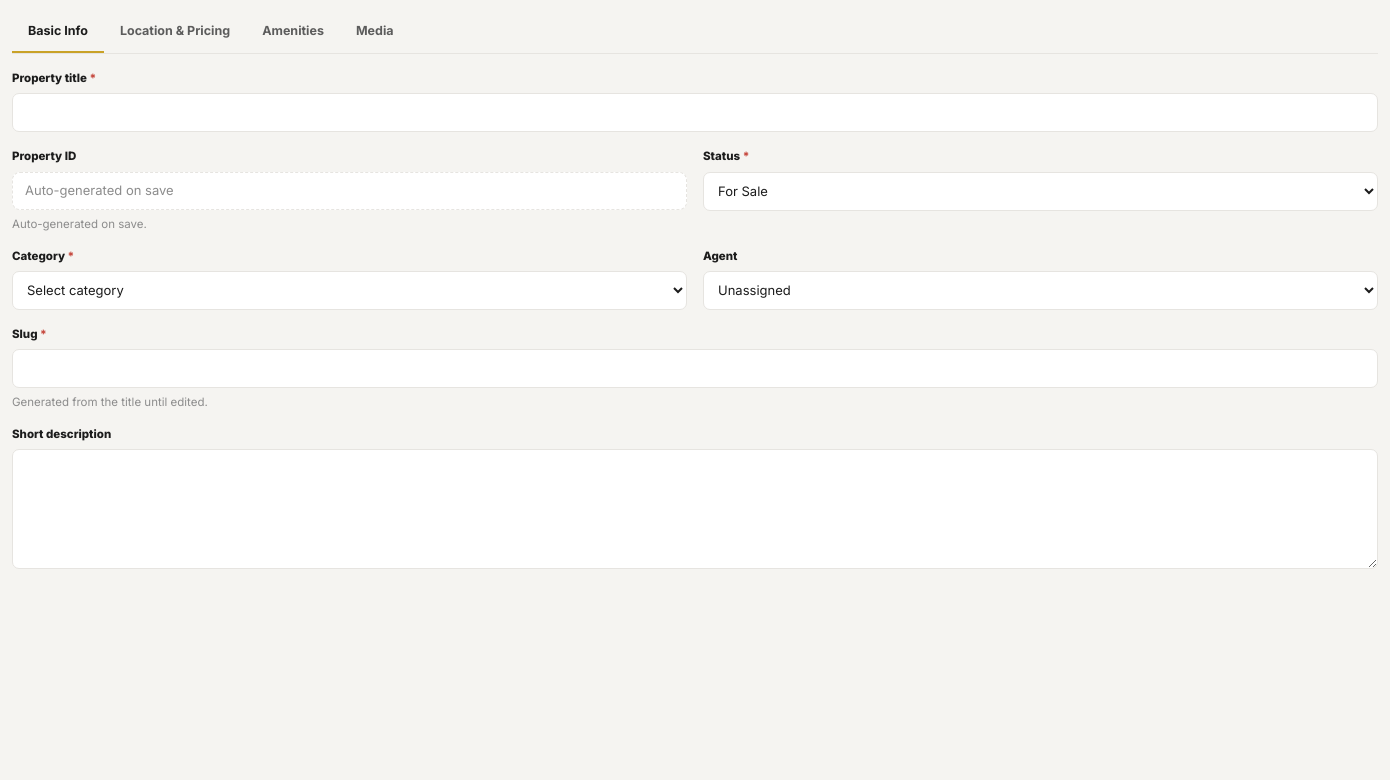
Test: PropertyForm › generates a slug from a new property title
Type "Bole Garden Apartment" into the field labelled "Property title". click: (695, 113)
box: [12, 93, 1378, 132]
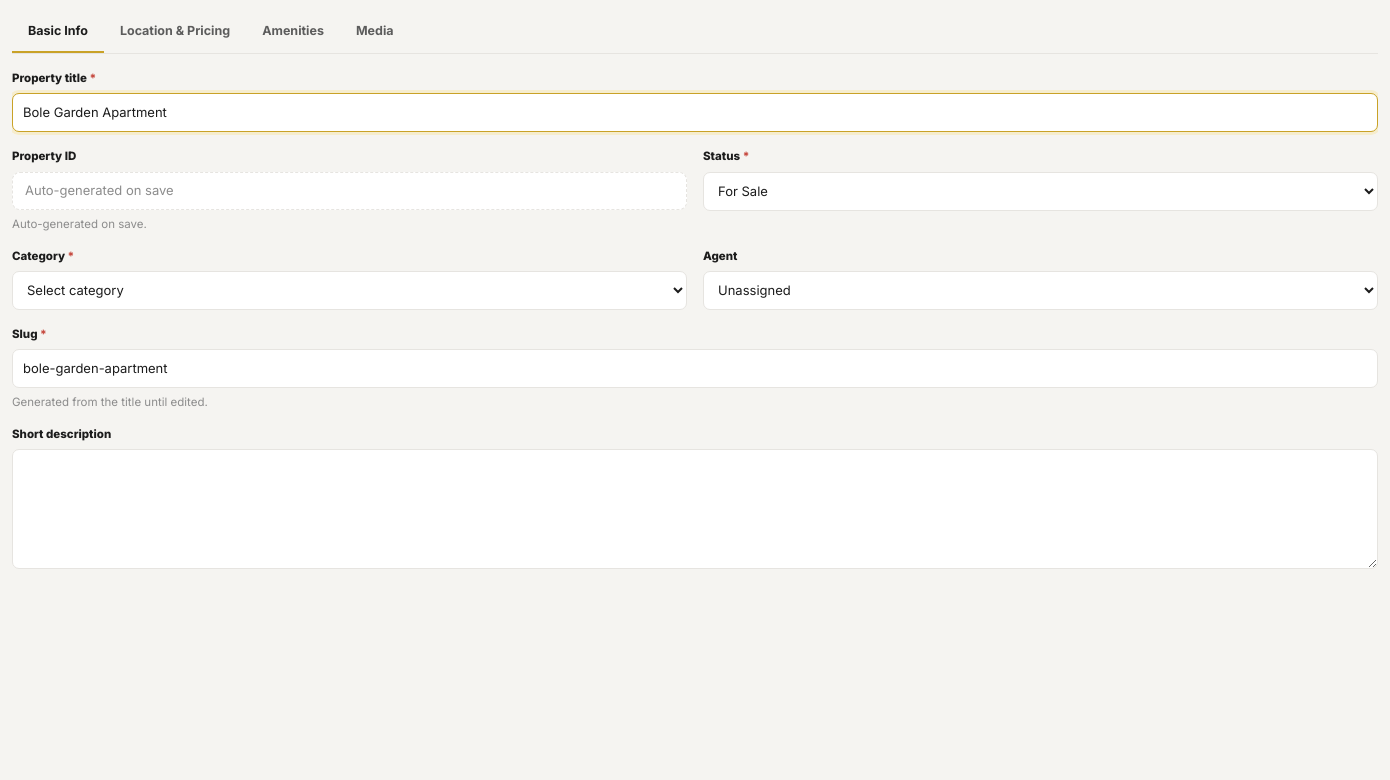
Expected: the field labelled "Slug" holds "bole-garden-apartment", [12, 349, 1378, 388]
